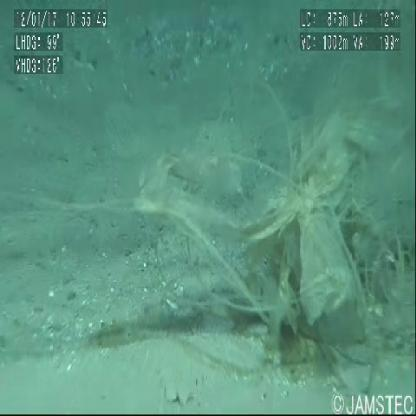Rác: (80, 113, 413, 388)
